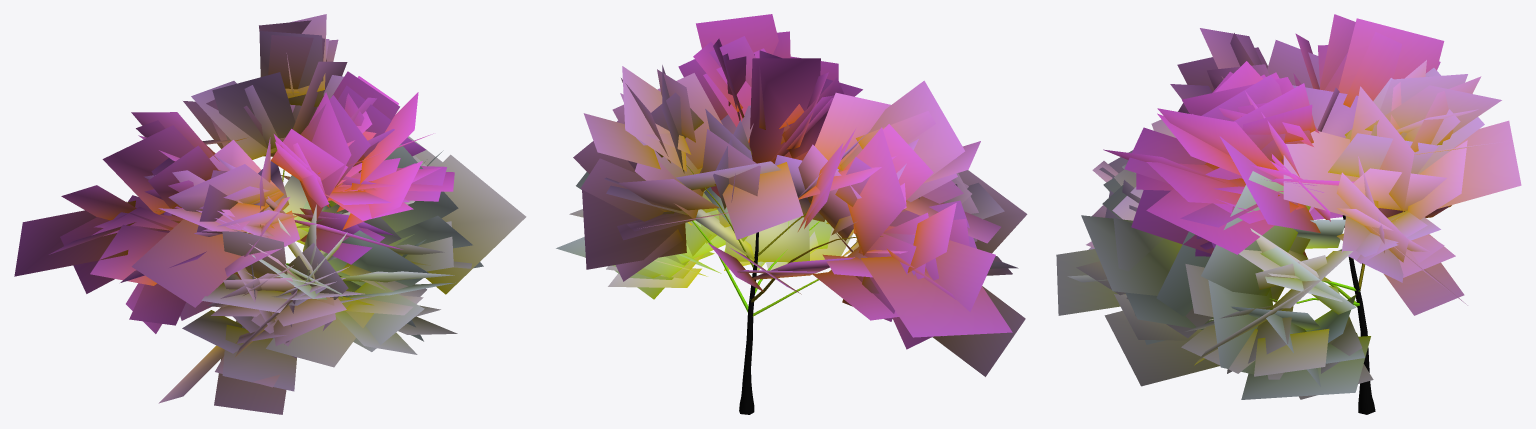
Rendered from tree_pagoda_b_lod1.glb.
3 renders of one model, left to right at view 1: azimuth 30°, elevation 25°; view 2: azimuth 150°, elevation 25°; view 3: azimuth 270°, elevation 25°, orthographic. The views are drawn at different scales.
Visible parts, largest first — view 1: tree_pagoda_b_lod1; view 2: tree_pagoda_b_lod1; view 3: tree_pagoda_b_lod1.
Part boxes in pixels (x1,y1,x2,y2): tree_pagoda_b_lod1: (14, 14, 526, 414); tree_pagoda_b_lod1: (556, 14, 1027, 414); tree_pagoda_b_lod1: (1056, 14, 1521, 414).
Size of the model in its own units: 23.87 by 15.95 by 17.81.
